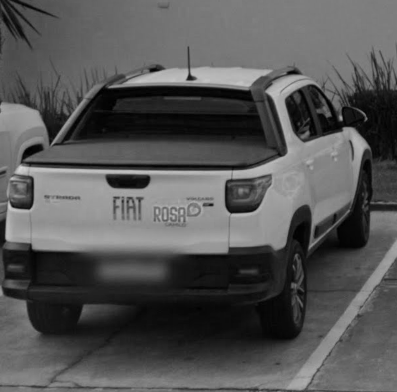car: (2, 62, 377, 342)
